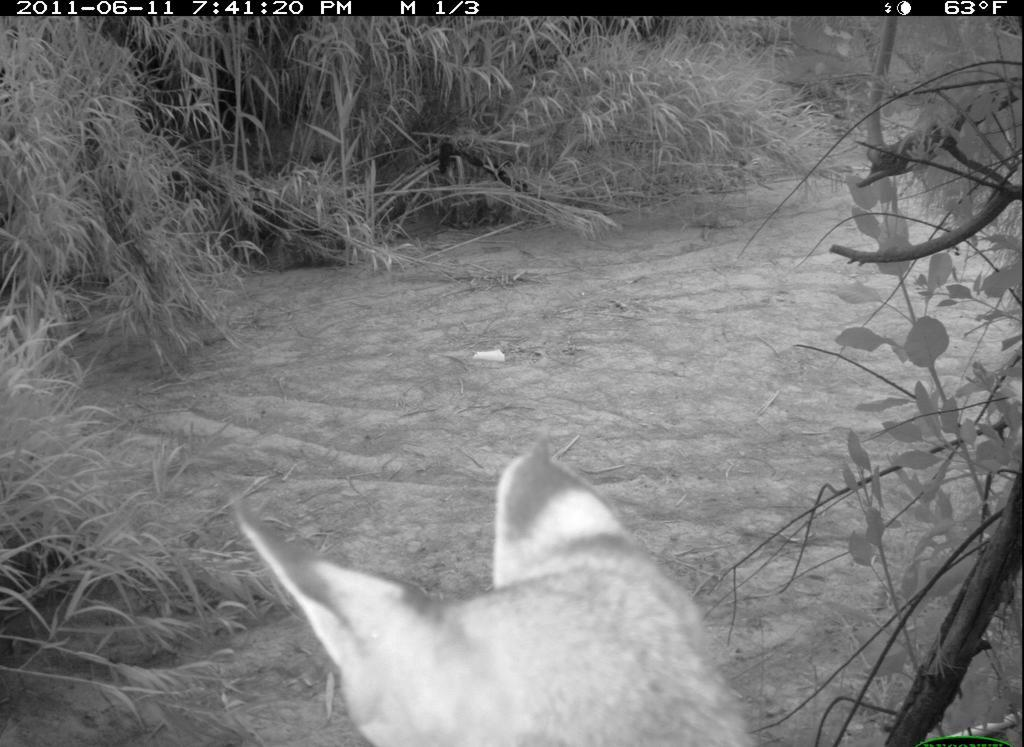bobcat: (231, 440, 770, 747)
